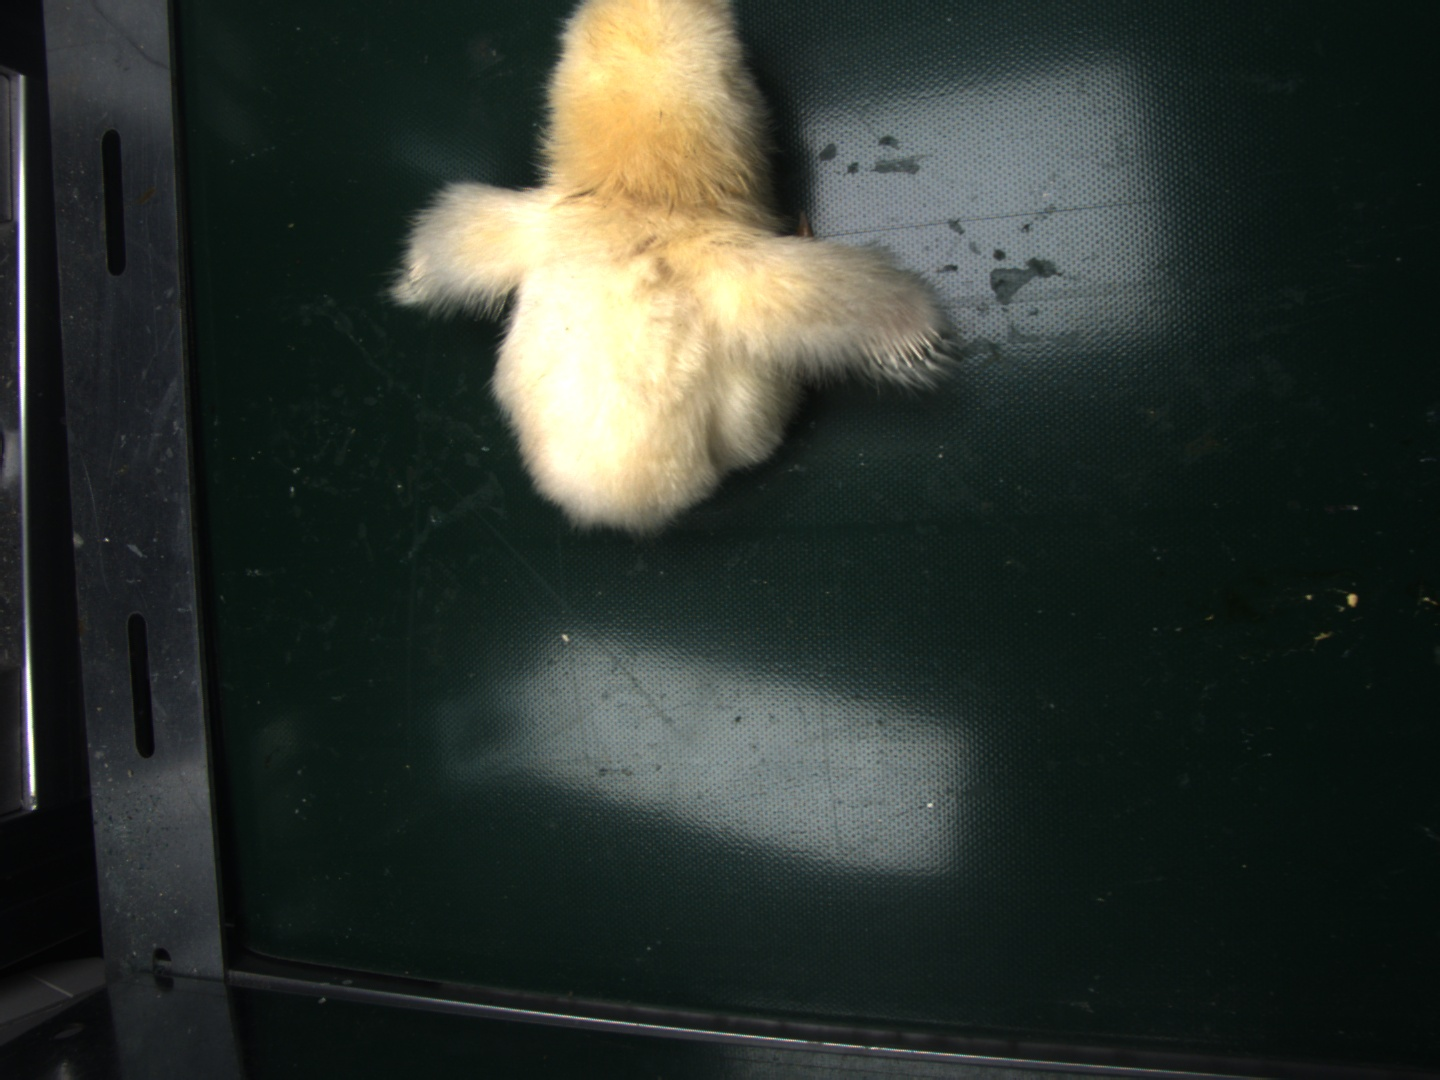male: (863, 324, 935, 369)
